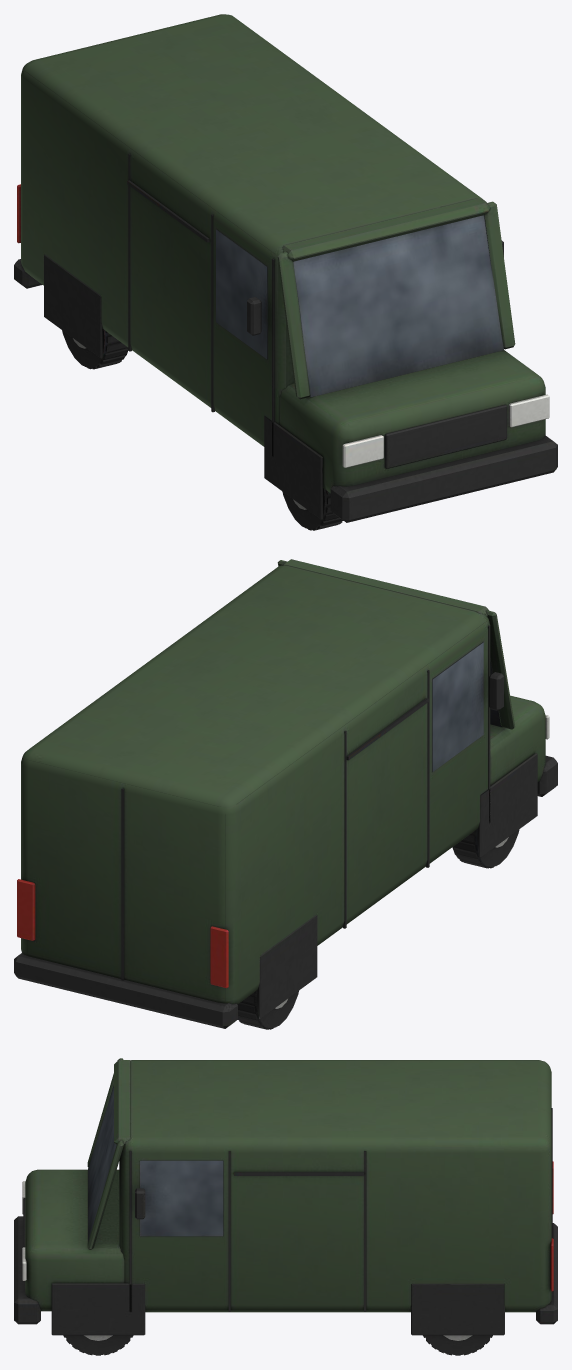
Rendered from van_green.glb.
The picture shows the model from 3 angles, top to bottom: view 1: azimuth 30°, elevation 25°; view 2: azimuth 150°, elevation 25°; view 3: azimuth 270°, elevation 25°; orthographic projection. The views are drawn at different scales.
Visible parts, largest first — view 1: van_green; view 2: van_green; view 3: van_green.
Boxes of the visible parts, bbox=[...] form: van_green: bbox=[14, 14, 557, 530]; van_green: bbox=[14, 559, 557, 1029]; van_green: bbox=[14, 1058, 557, 1355].
Size of the model in its own units: 2.29 by 2.31 by 5.22.
1 material, 1 textured.
